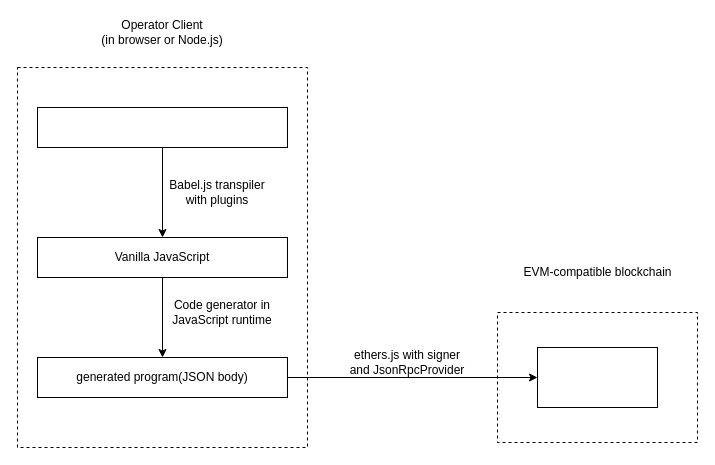
This 715x465 diagram has some shape labels left out. The centre of each missing label's shape, as x and y in pixels:
By-Law Script: (162,127)
your on-chain DARC: (597,377)
